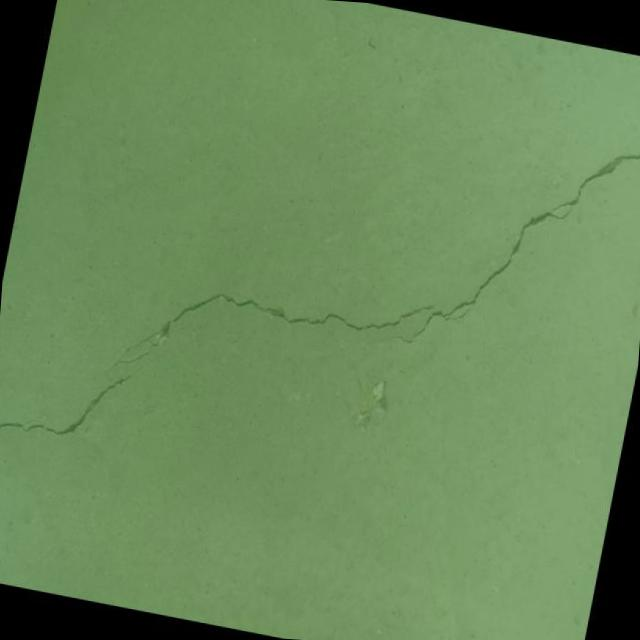crack: (97, 27, 640, 480), (0, 332, 149, 485)
